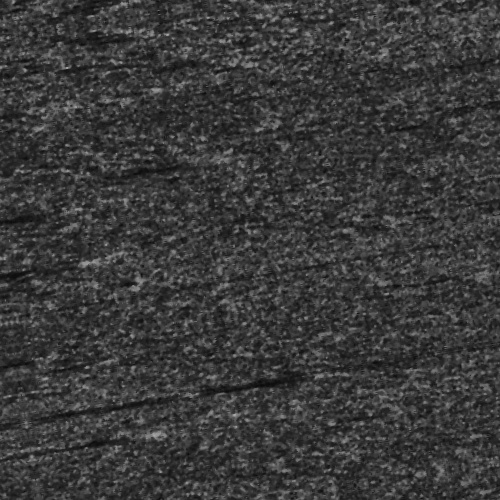object: (31, 228, 146, 237), (90, 409, 131, 416), (269, 380, 310, 385), (73, 178, 104, 181)
shadow: (0, 228, 88, 237), (0, 409, 110, 416), (183, 380, 289, 385), (0, 178, 88, 181), (134, 152, 218, 153)
